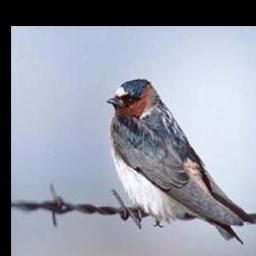Swallow: (109, 77, 256, 248)
